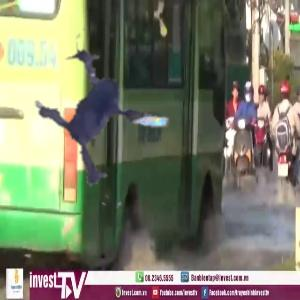drone: (17, 17, 230, 230)
